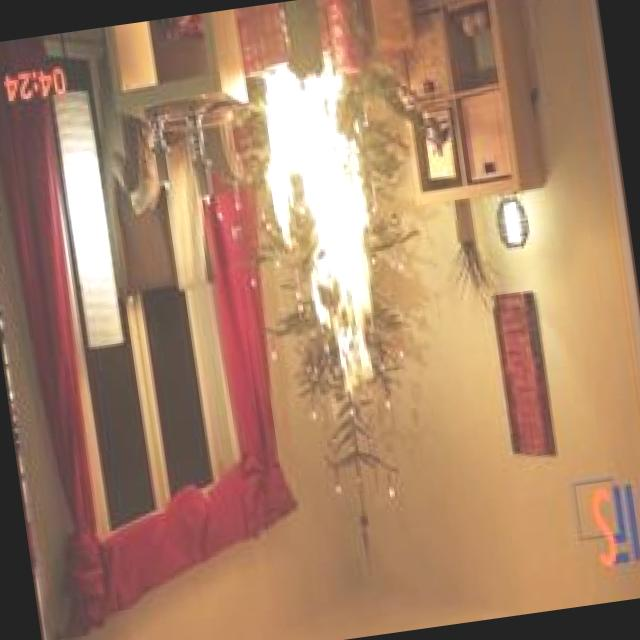fire: (238, 65, 393, 407)
